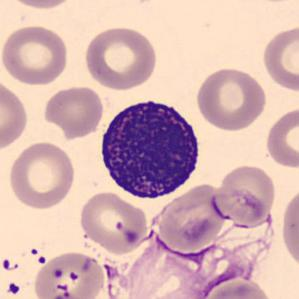Basophil: (95, 90, 206, 202)
Platelets: (6, 281, 22, 296)
RBC: (194, 64, 269, 133), (83, 24, 160, 90), (6, 139, 76, 211), (77, 189, 151, 256), (0, 23, 71, 86), (212, 162, 278, 224), (30, 247, 107, 299), (42, 83, 106, 138), (260, 24, 298, 93), (263, 104, 299, 170), (0, 77, 30, 153), (278, 184, 299, 272), (196, 277, 277, 299), (1, 0, 79, 11), (142, 289, 212, 299)
